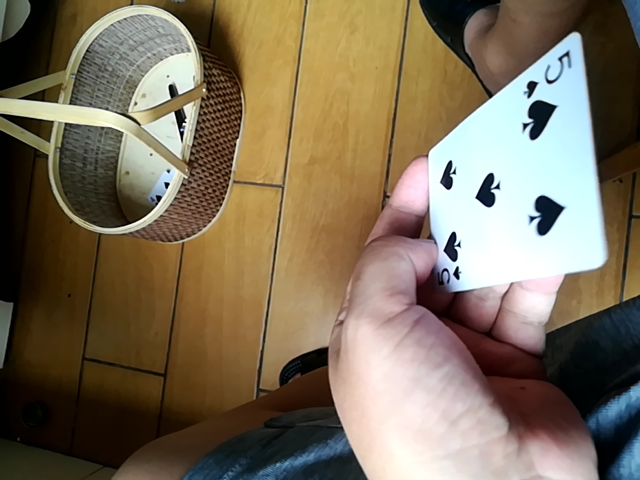ht 5: (415, 30, 610, 301)
